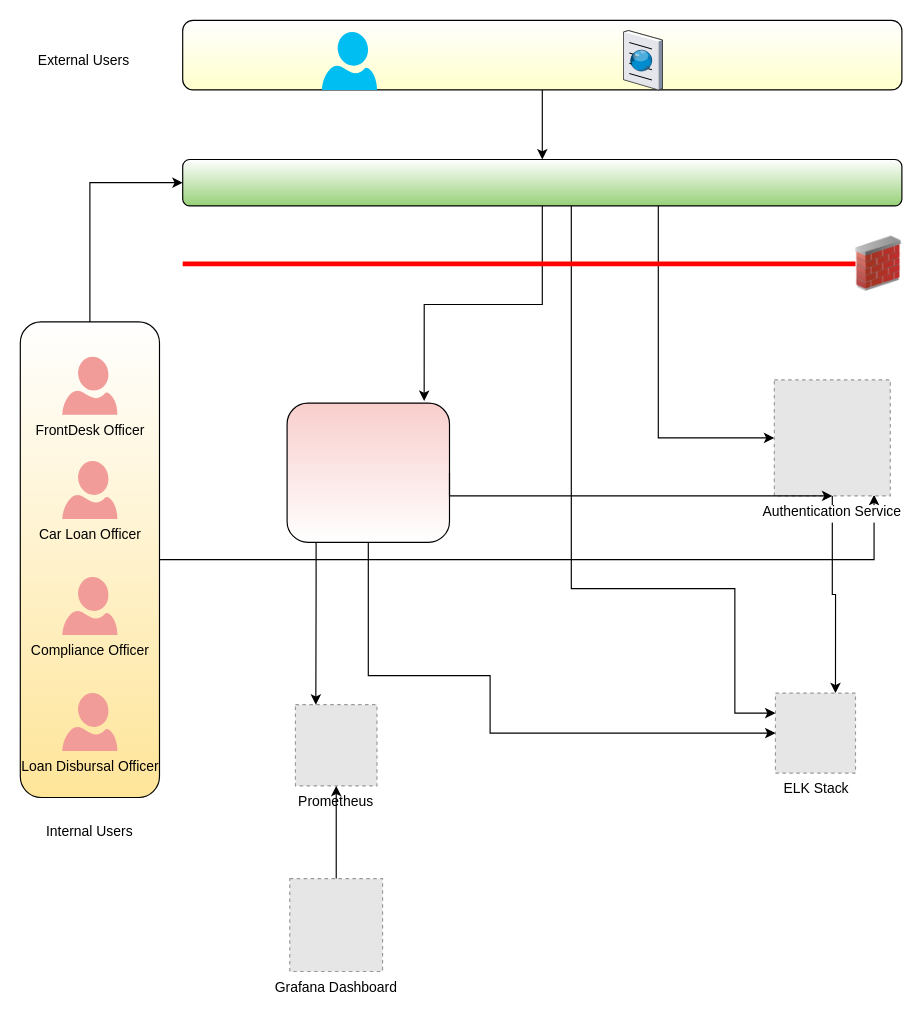
Image size: 923x1016. Some labels were removed from this diagram. Grey dashed boxes stand in for pictures. The shapes that lost their labels are listed below. From the top down, each one's centre as x and y in pixels, then its label:
pixel 542 182: API Gateway
pixel 367 472: Loan Approval Service
